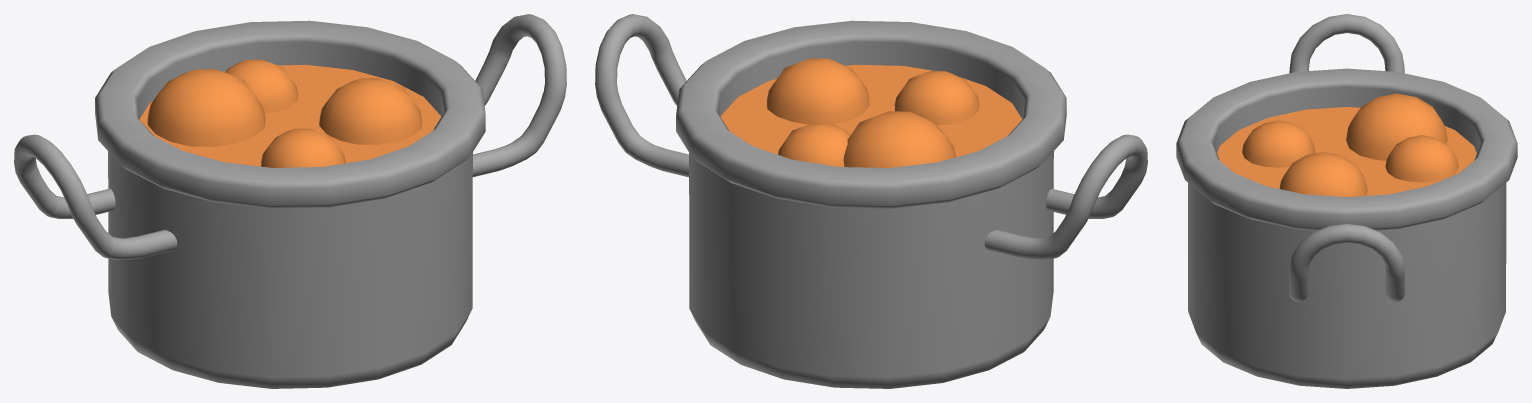
File: Pot_full.glb
3 renders of one model, left to right at view 1: azimuth 30°, elevation 25°; view 2: azimuth 150°, elevation 25°; view 3: azimuth 270°, elevation 25°, orthographic. The views are drawn at different scales.
Visible parts, largest first — view 1: Pot_Full_1; view 2: Pot_Full_1; view 3: Pot_Full_1.
Part boxes in pixels (x1,y1,x2,y2): Pot_Full_1: (14,14,566,388); Pot_Full_1: (595,14,1147,388); Pot_Full_1: (1176,14,1517,388).
Bounding box in the file's own units: 0.6144 × 0.2758 × 0.4067.
1 material, 1 textured.
